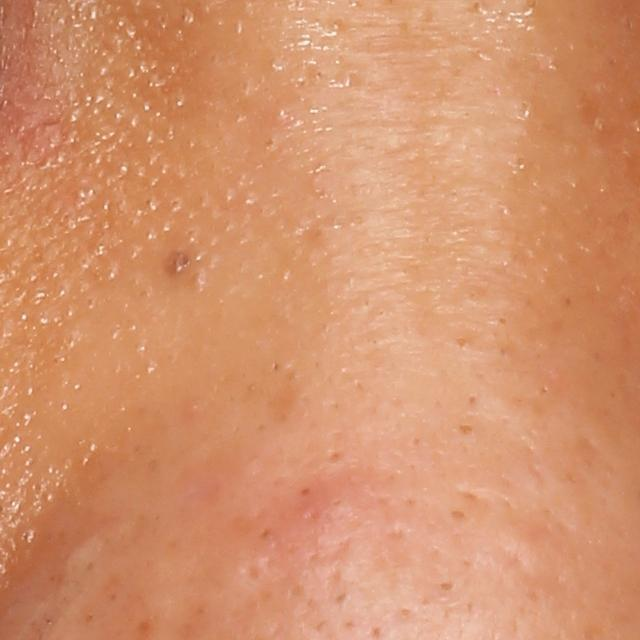comedo: (323, 444, 347, 468), (432, 575, 460, 595), (445, 505, 469, 527)
nevus: (163, 250, 192, 277)
